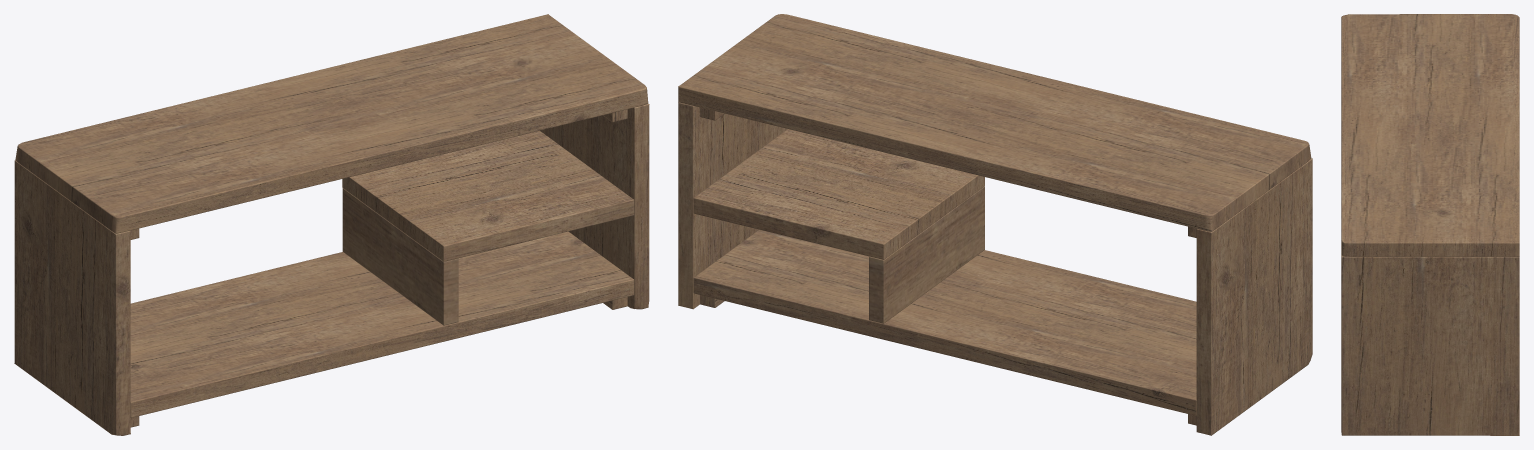
File: Mobile_basso_tv_in_legno_di_recupero.fbx
3 renders of one model, left to right at view 1: azimuth 30°, elevation 25°; view 2: azimuth 150°, elevation 25°; view 3: azimuth 270°, elevation 25°, orthographic. The views are drawn at different scales.
Parts seen in each view (by area): view 1: Mobile_basso_tv_in_legno_di_recupero; view 2: Mobile_basso_tv_in_legno_di_recupero; view 3: Mobile_basso_tv_in_legno_di_recupero.
Part boxes in pixels (<box>): Mobile_basso_tv_in_legno_di_recupero: <box>14,14,649,435</box>; Mobile_basso_tv_in_legno_di_recupero: <box>678,14,1312,435</box>; Mobile_basso_tv_in_legno_di_recupero: <box>1341,14,1519,435</box>.
Size of the model in its own units: 140 by 55.07 by 46.06.
